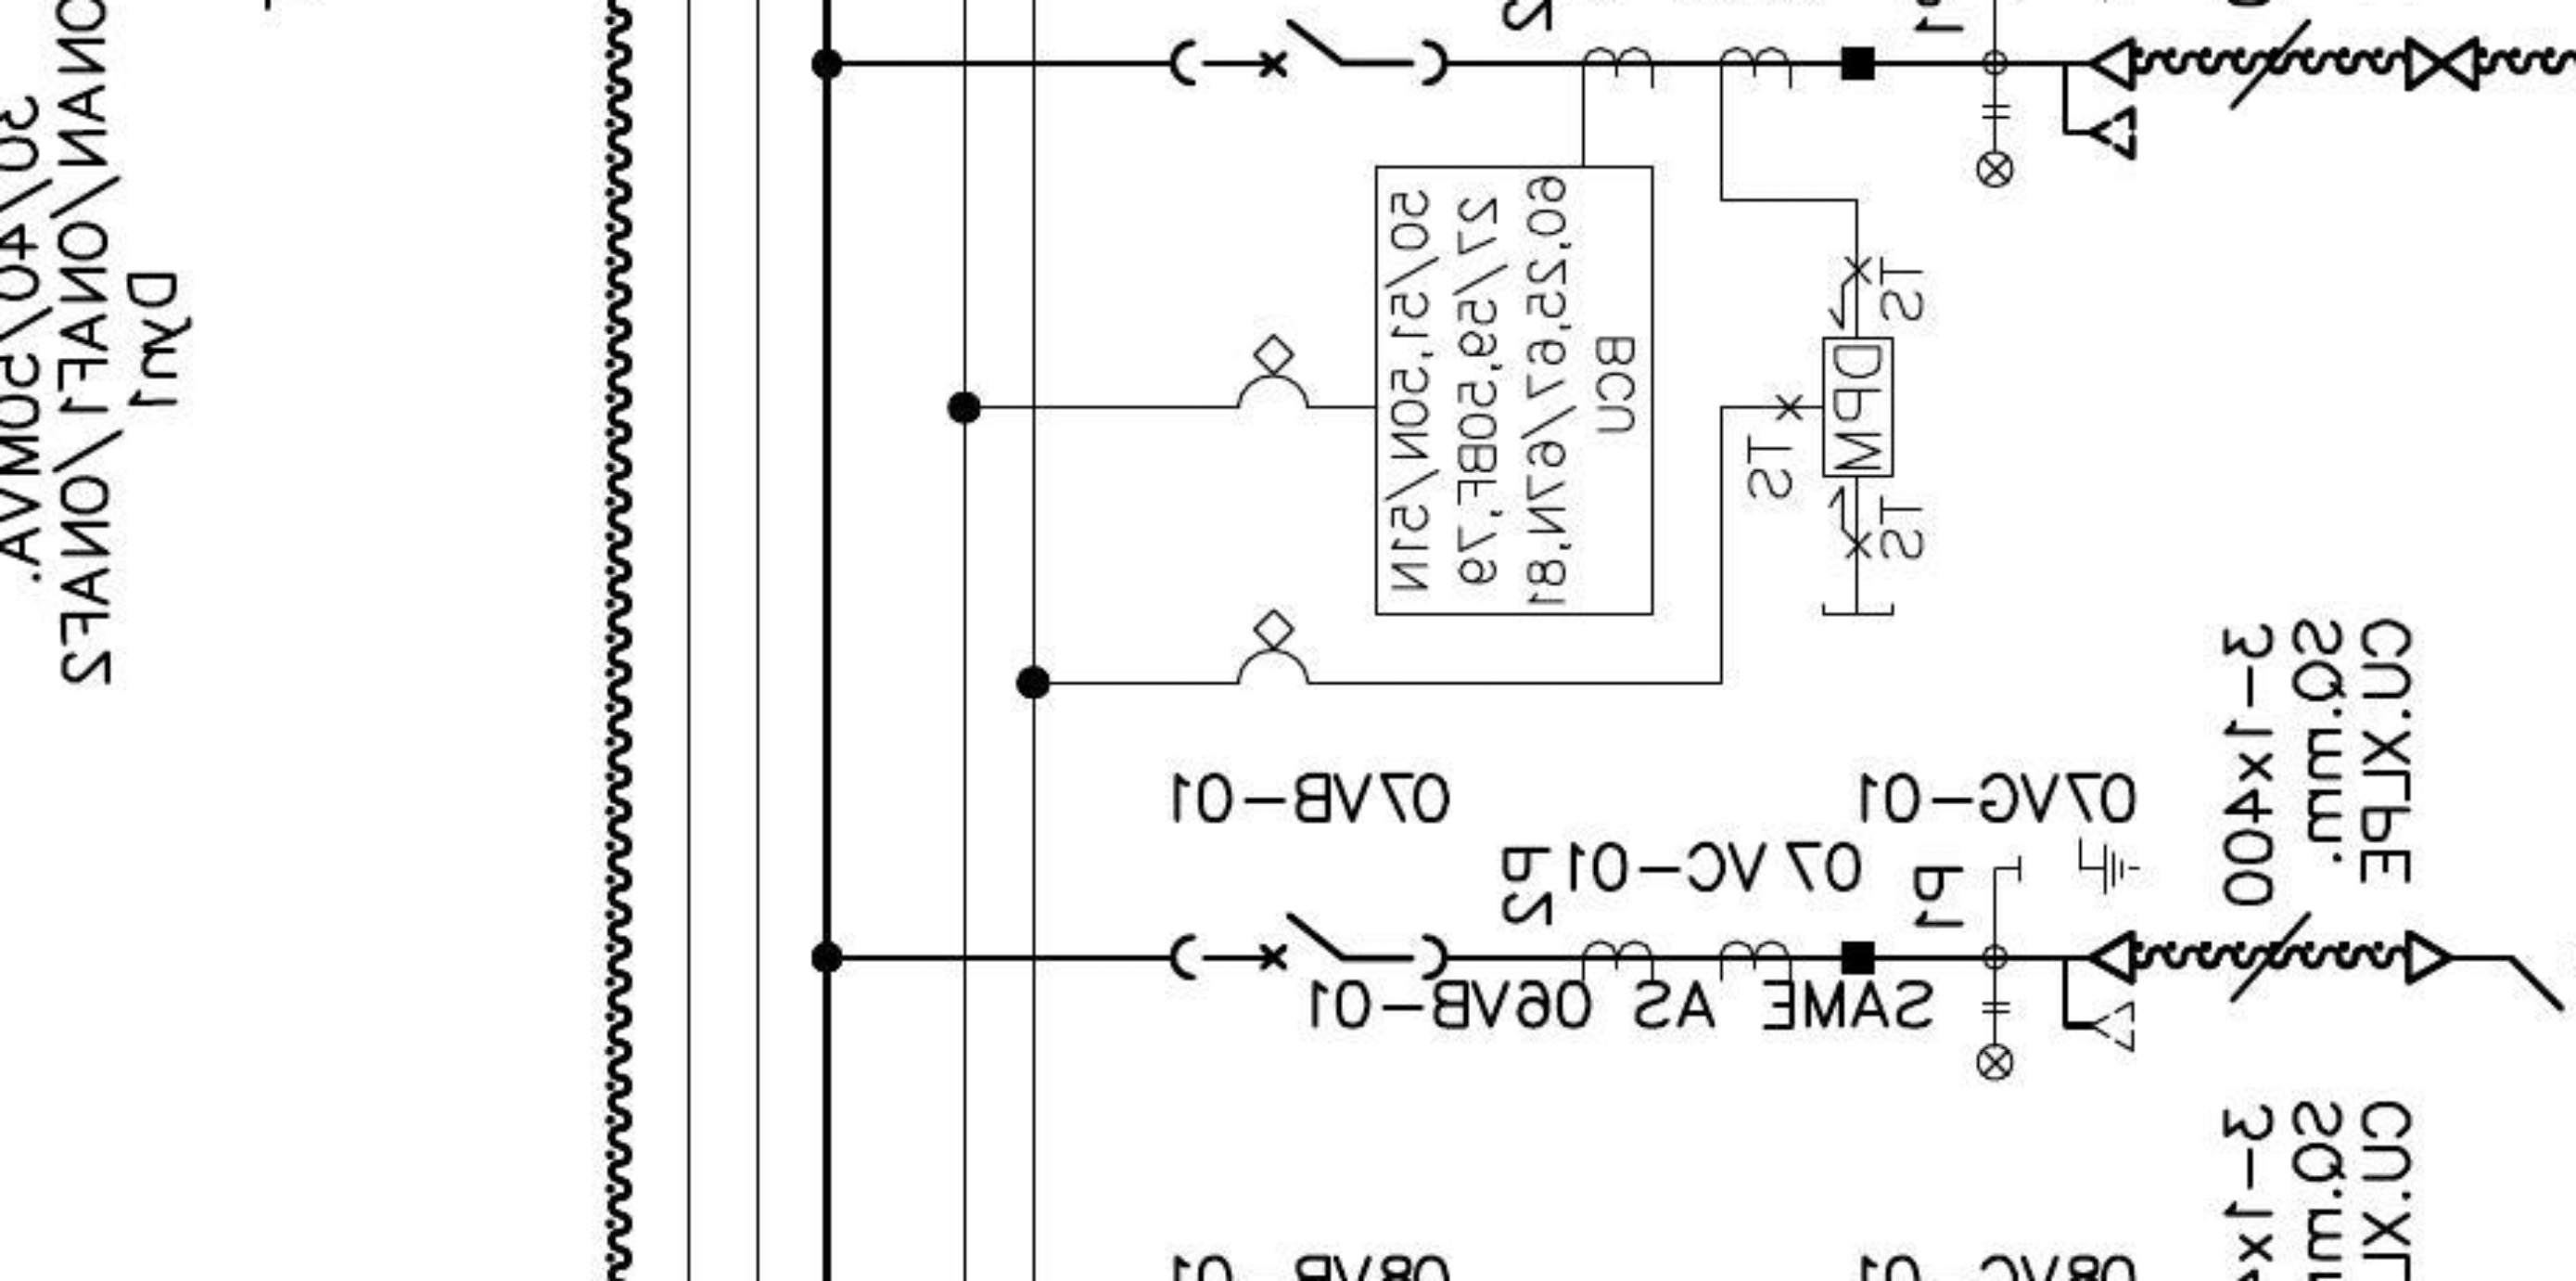22_breaker: (1168, 15, 1452, 90), (1168, 908, 1451, 982)
22_gs: (2014, 834, 2141, 899)
22_ll: (1975, 104, 2016, 189), (1973, 1000, 2014, 1085)
DPM: (1819, 334, 1897, 480)
terminator_single: (2400, 926, 2454, 988)
terminator_splicing_kits: (2403, 35, 2482, 92)
terminator_w_future: (2058, 33, 2139, 163), (2057, 929, 2137, 1059)
